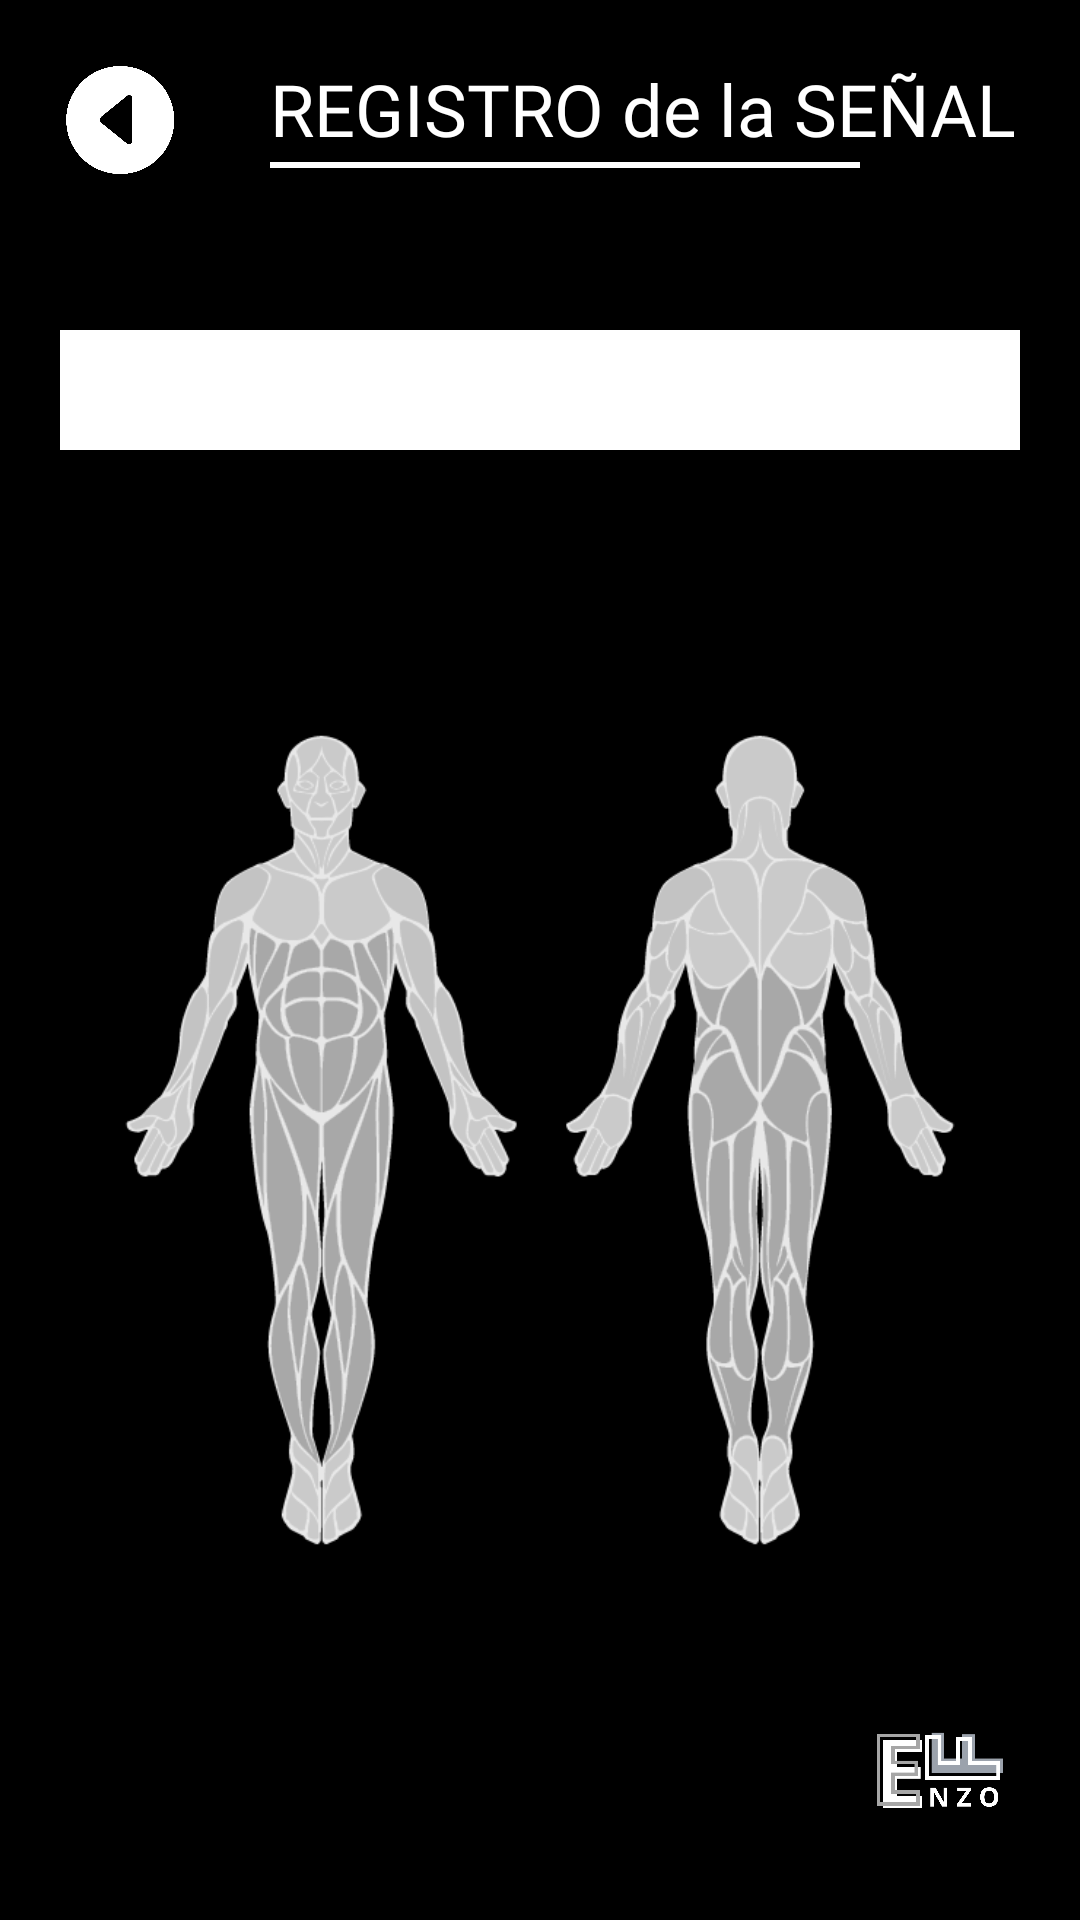

Point at icon controls on the screen. Image size 1080px×1920px, points as (x=x, y=y).
Boton atras: (x=120, y=120)
